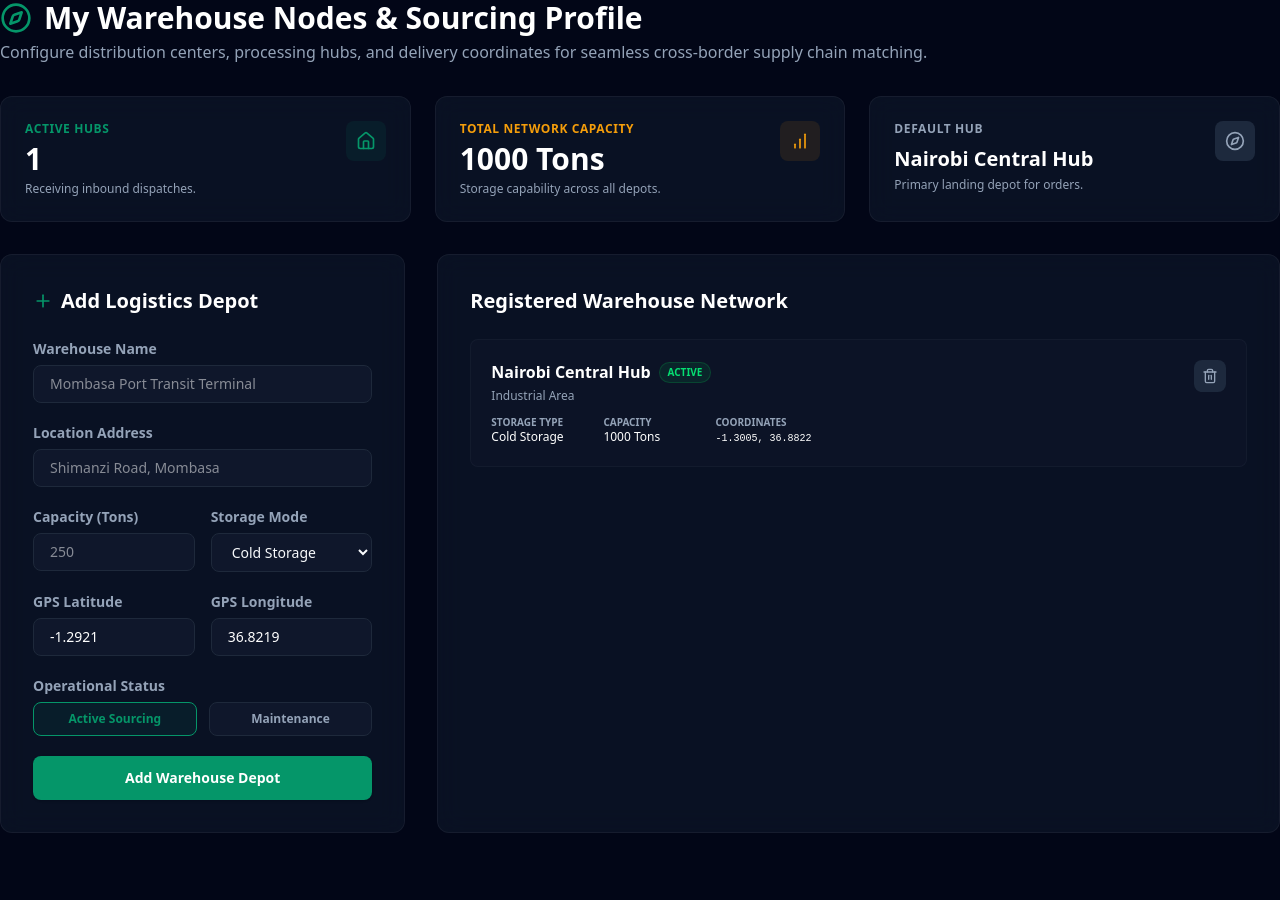
Test case: Buyer MyWarehouses Component › surfaces schema validation issues for invalid capacity
Step 1. Type "Depot X" into the field with placeholder "Mombasa Port Transit Terminal" → [203, 384], box left=33, top=365, right=372, bottom=403
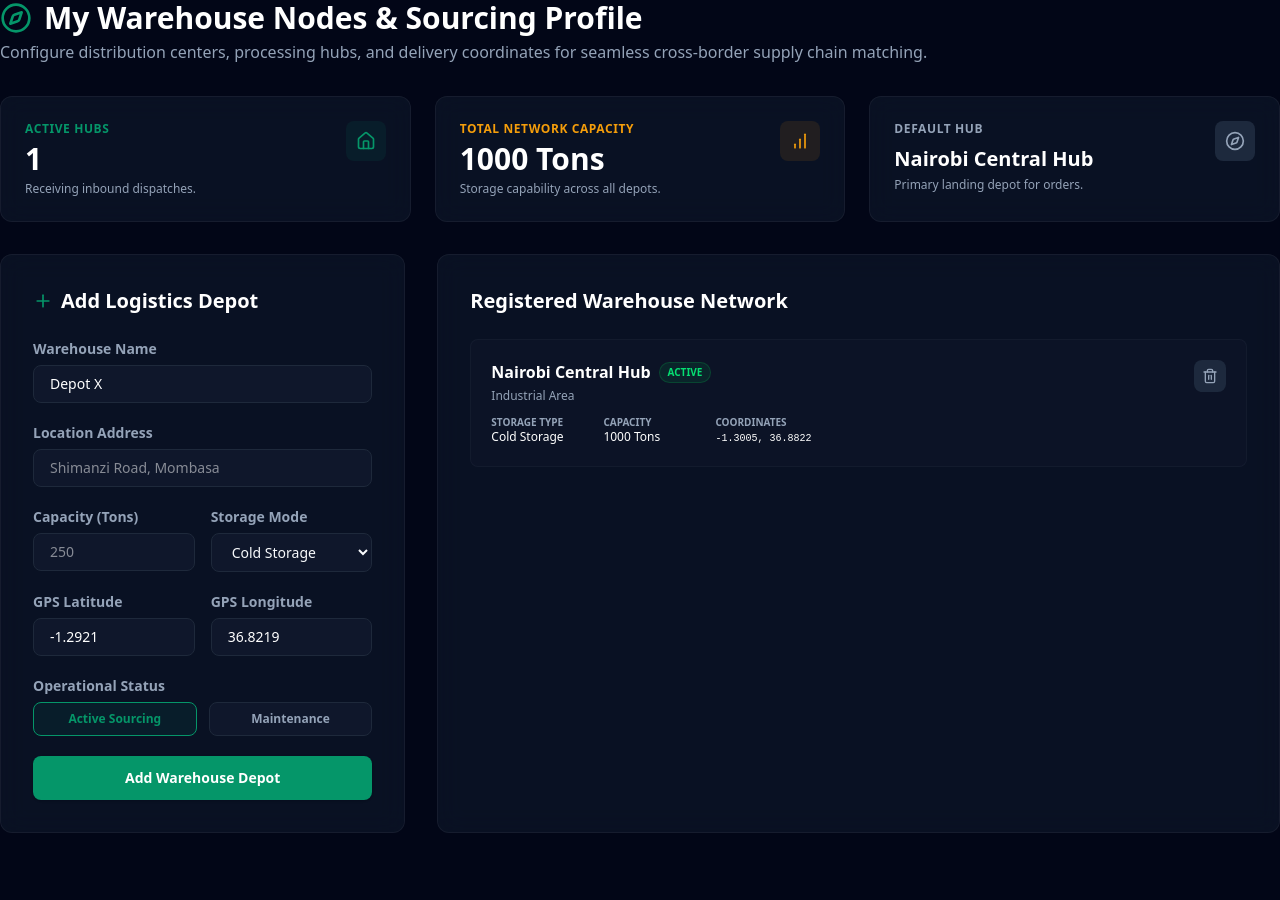
Step 2. Type "Mombasa" into the field with placeholder "Shimanzi Road, Mombasa" → [203, 468], box left=33, top=449, right=372, bottom=487
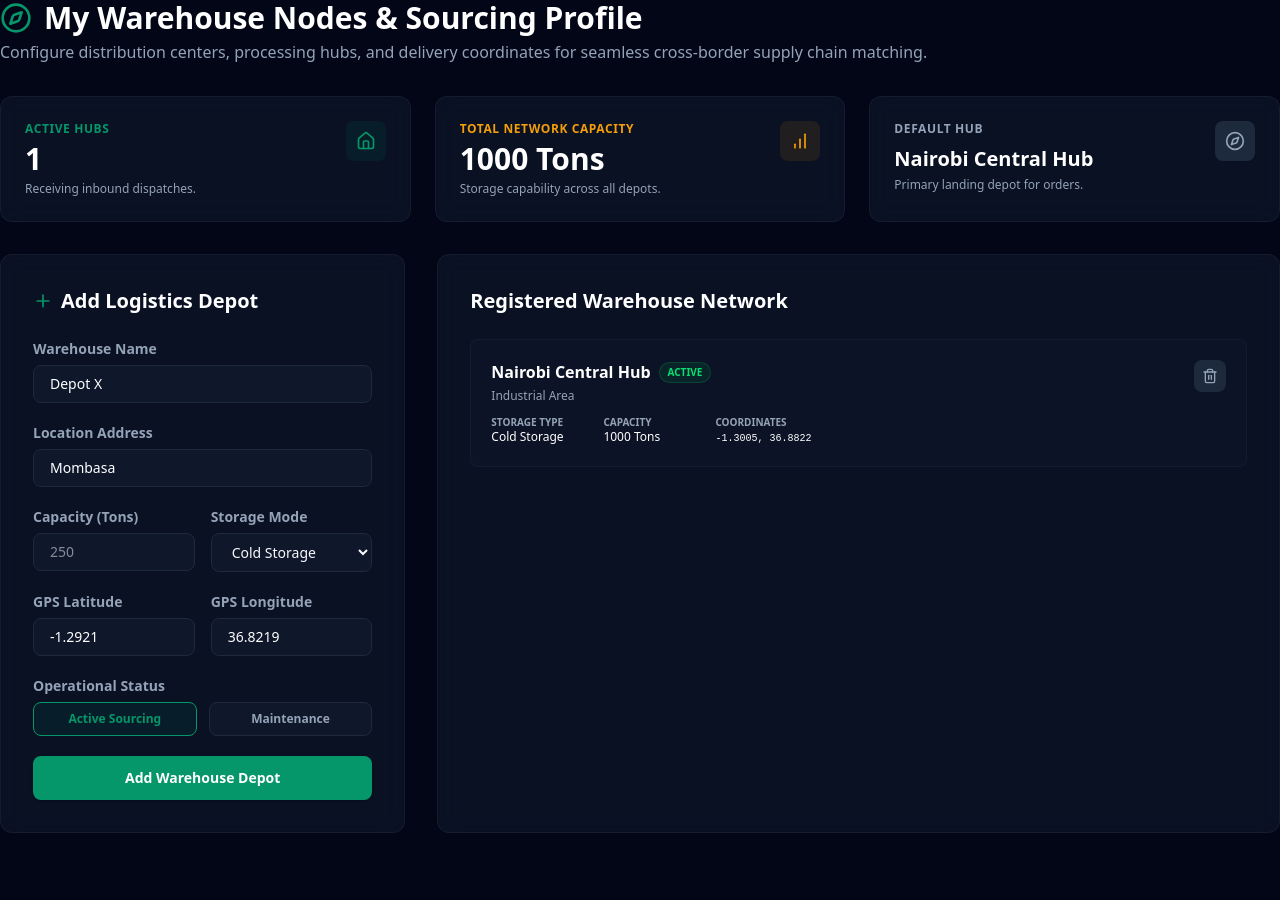
Step 3. Type "-10" into the number field with placeholder "250" → [114, 552], box left=33, top=533, right=195, bottom=571
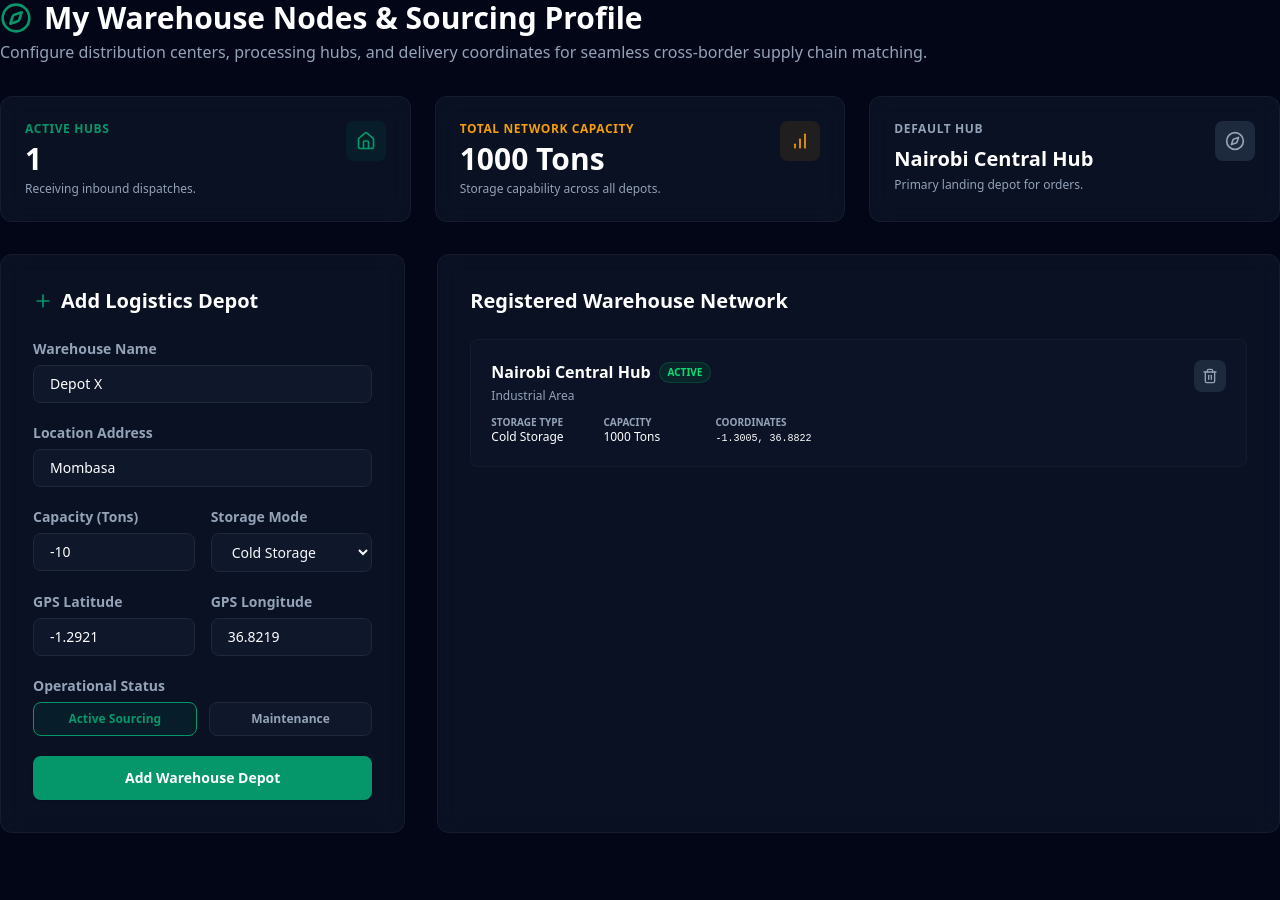
Step 4. Click the button "Add Warehouse Depot" → [203, 778], box left=33, top=756, right=372, bottom=800
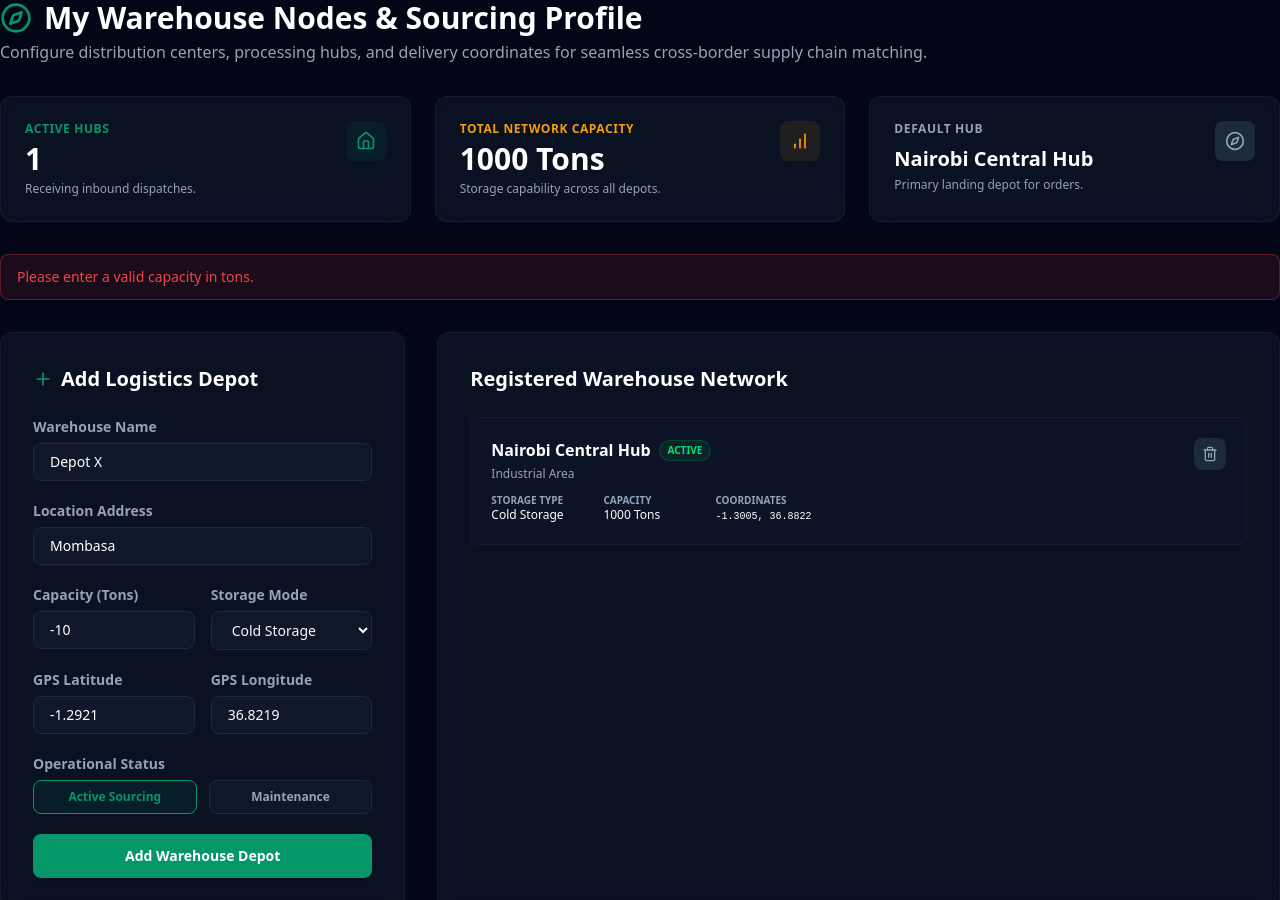
Check: the text "Please enter a valid capacity in tons." is shown, box left=17, top=267, right=254, bottom=286
